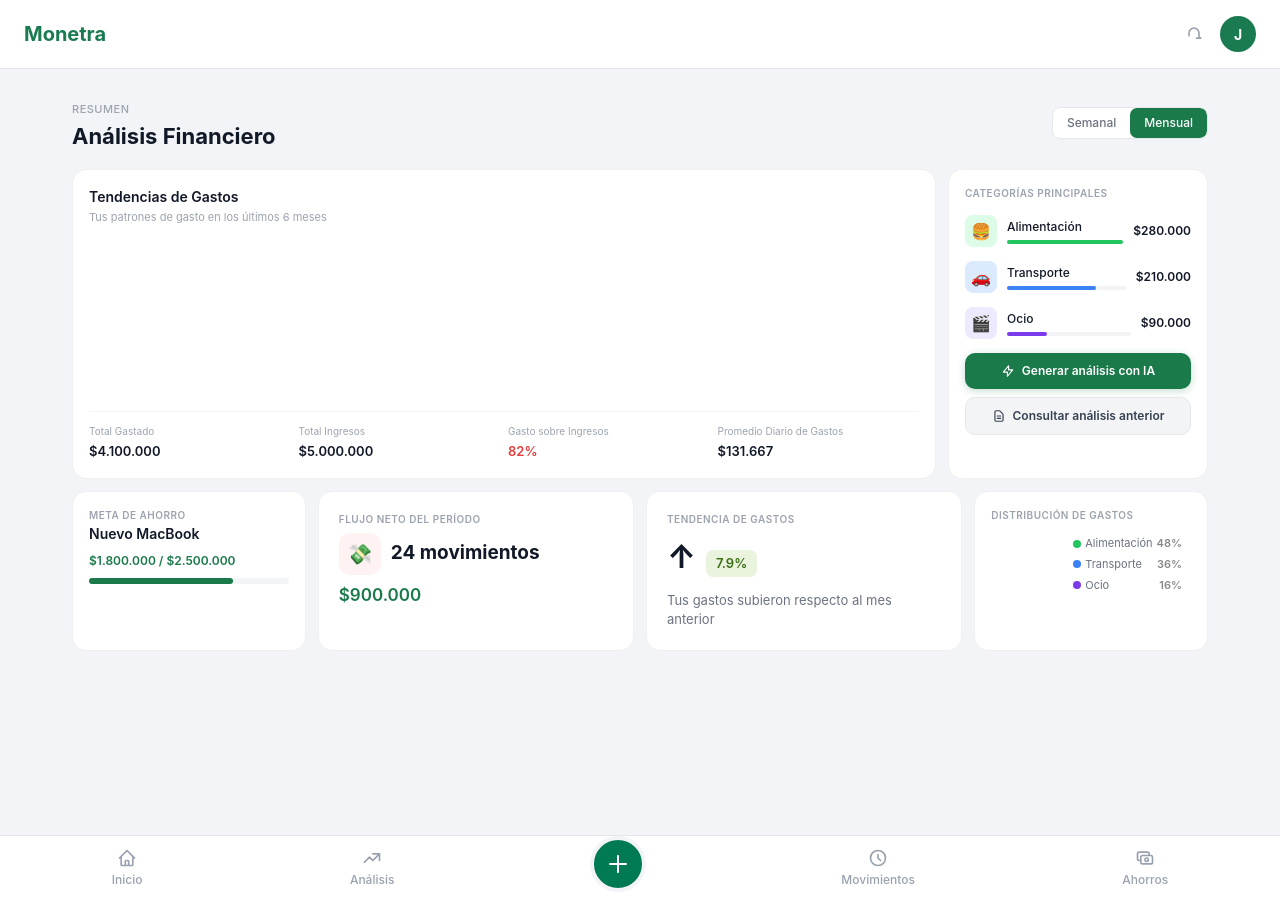
Test: Pruebas en <AnalisisView /> › Modal de IA — Generar análisis nuevo › debe abrir el modal en modo nuevo al hacer clic en 'Generar análisis con IA'
Click the button "Generar análisis con IA": (1078, 370) [965,352,1191,388]
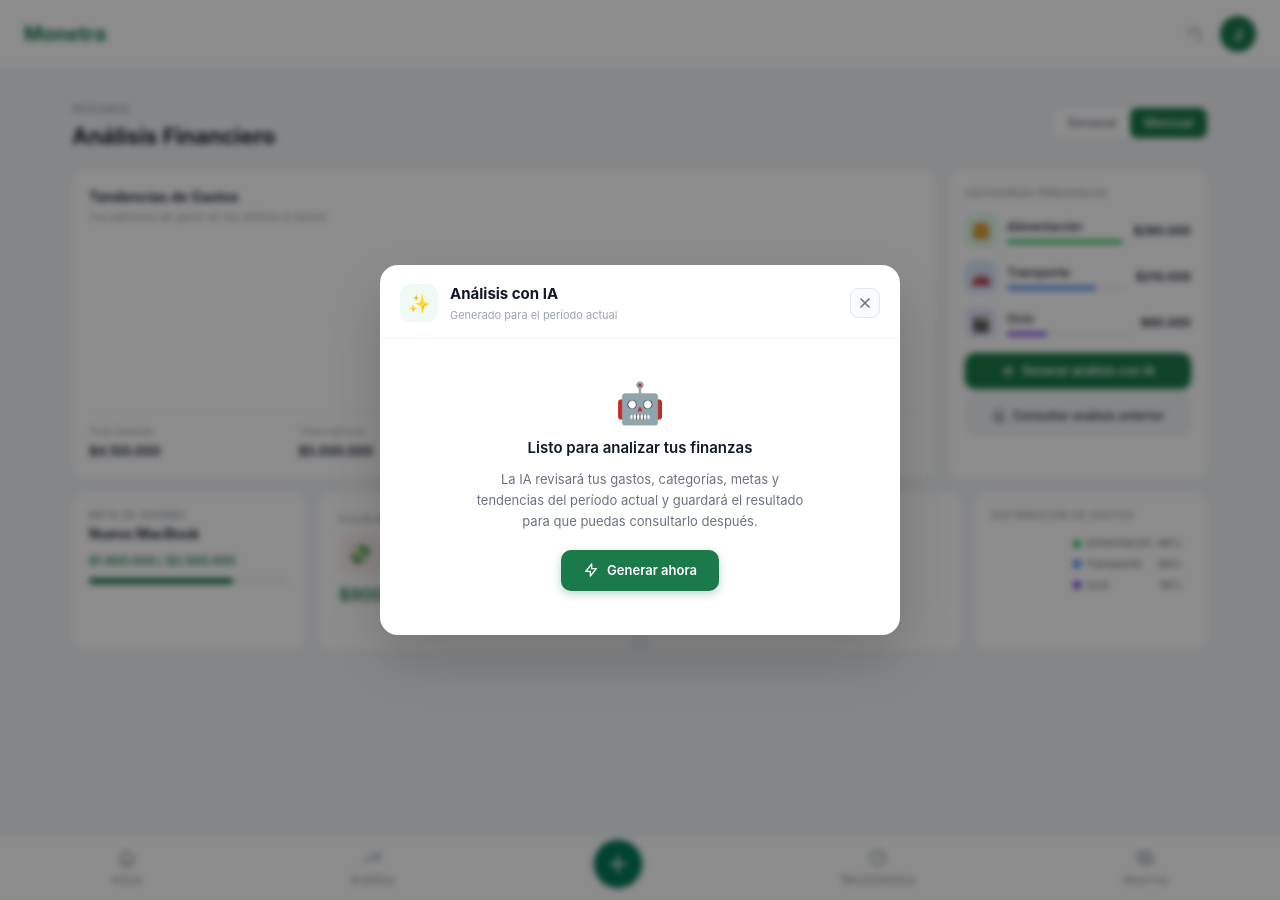
Expected: the text "Análisis con IA" is shown, [450,284,558,303]
Expected: the text "Listo para analizar tus finanzas" is shown, [528,437,752,459]
